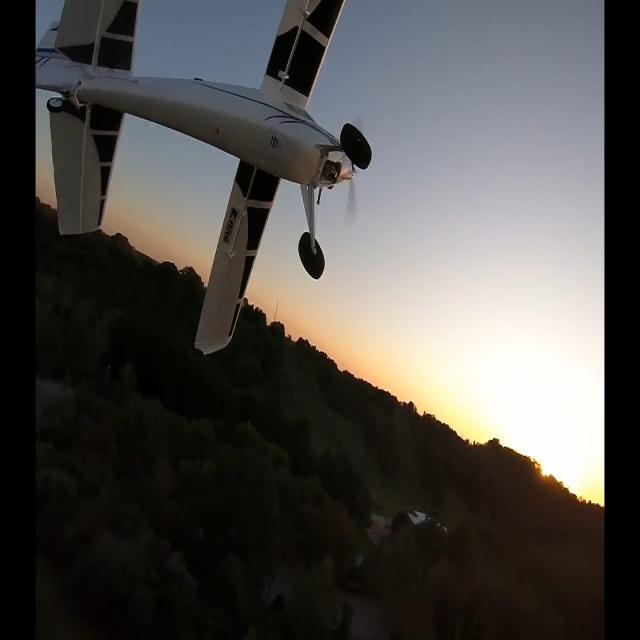iha: (34, 0, 375, 358)
